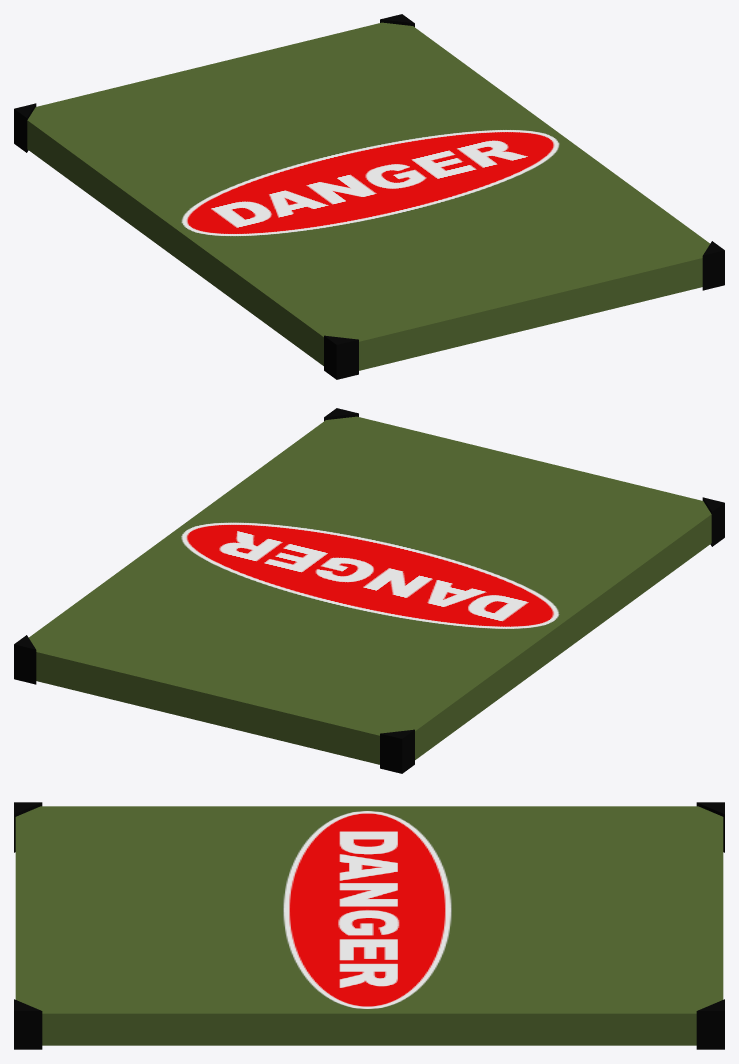
The model's file is MiningTablet.fbx.
3 views of the same model, one above another, from view 1: azimuth 30°, elevation 25°; view 2: azimuth 150°, elevation 25°; view 3: azimuth 270°, elevation 25° (orthographic). The views are drawn at different scales.
Visible parts, largest first — view 1: MiningTablet; view 2: MiningTablet; view 3: MiningTablet.
Boxes of the visible parts, x1,y1,x2,y2 form: MiningTablet: (14, 14, 724, 379); MiningTablet: (14, 408, 724, 773); MiningTablet: (14, 802, 724, 1049).
Size of the model in its own units: 139 by 12 by 201.
